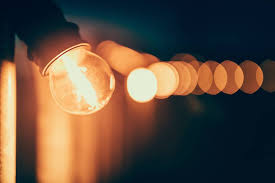bulb: (33, 39, 114, 127)
